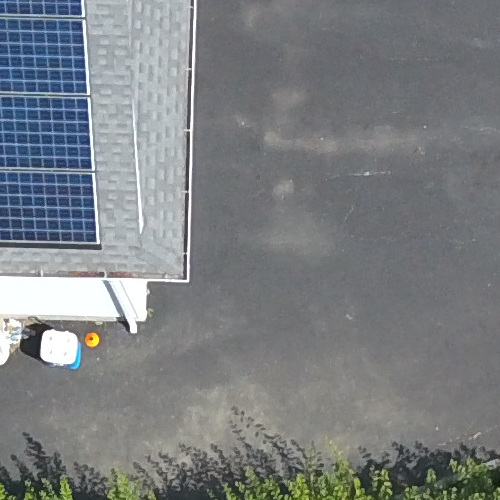container: (28, 323, 109, 374)
